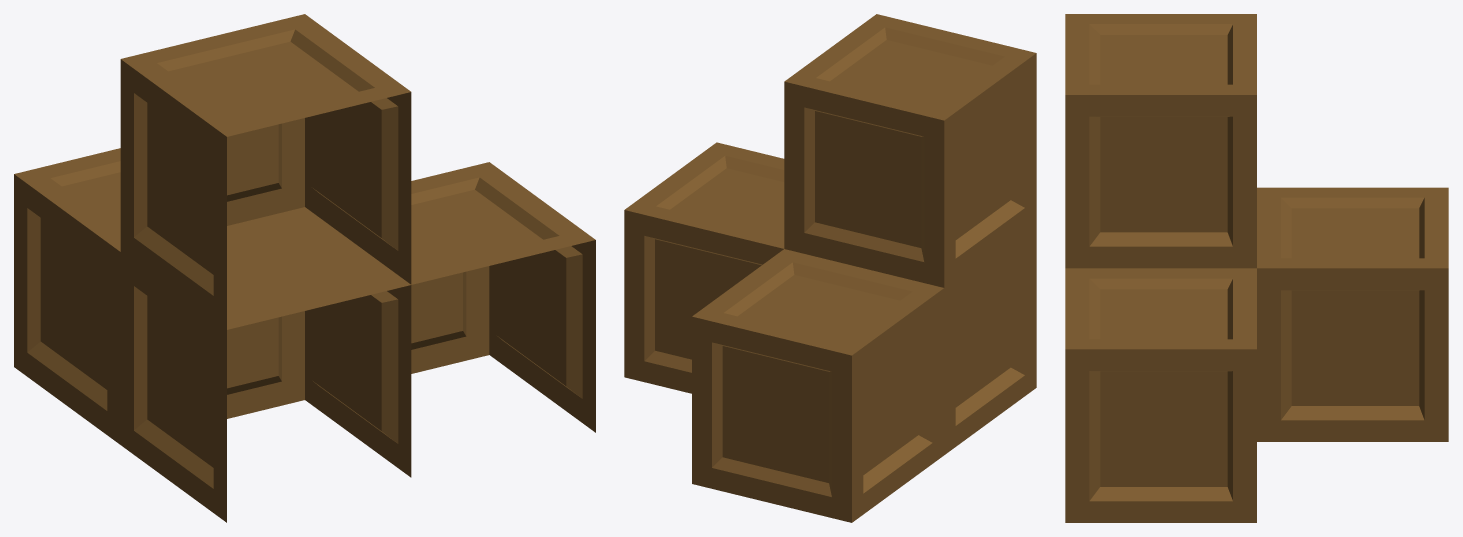
The model's file is Crate1.fbx.
3 views of the same model, side by side, from view 1: azimuth 30°, elevation 25°; view 2: azimuth 150°, elevation 25°; view 3: azimuth 270°, elevation 25° (orthographic). The views are drawn at different scales.
Visible parts, largest first — view 1: Plane.019; view 2: Plane.019; view 3: Plane.019.
Part boxes in pixels (left/top/right/bottom): Plane.019: left=14, top=14, right=595, bottom=522; Plane.019: left=624, top=14, right=1036, bottom=522; Plane.019: left=1065, top=14, right=1448, bottom=522.
Bounding box in the file's own units: 400 × 400 × 400.
